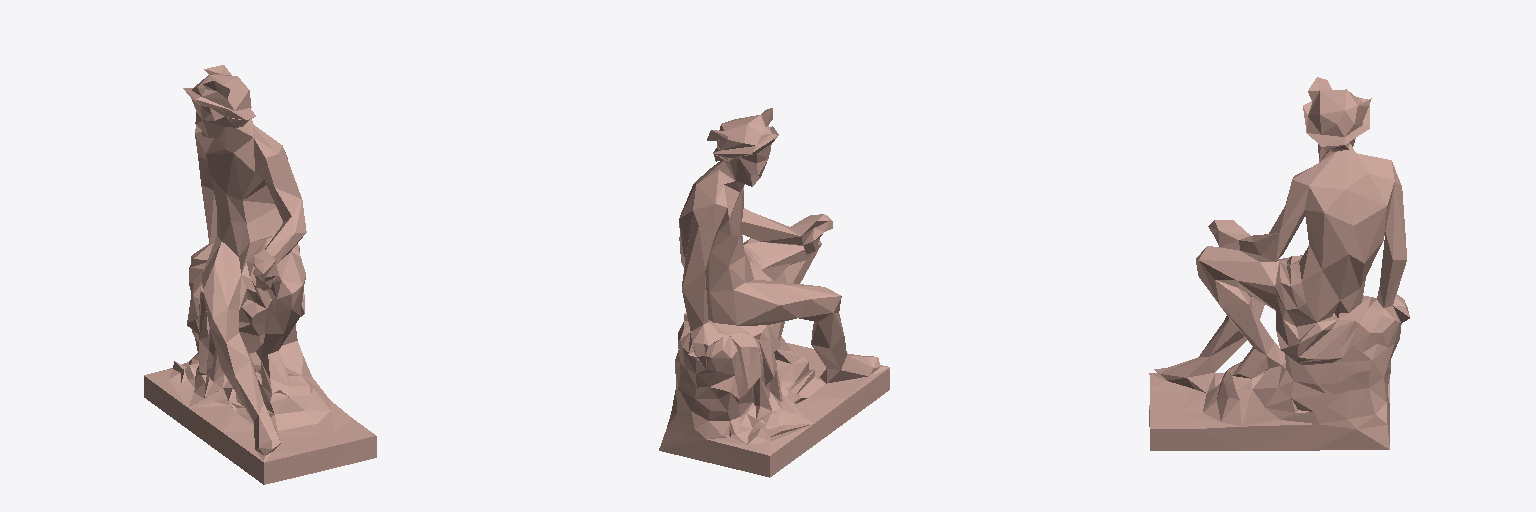
File: statue-low-poly.obj
The picture shows the model from 3 angles: view 1: azimuth 30°, elevation 25°; view 2: azimuth 150°, elevation 25°; view 3: azimuth 270°, elevation 25°; orthographic projection.
Visible parts, largest first — view 1: mercury2; view 2: mercury2; view 3: mercury2.
Part boxes in pixels (bbox=[...]): mercury2: bbox=[144, 65, 376, 484]; mercury2: bbox=[659, 108, 889, 477]; mercury2: bbox=[1149, 77, 1409, 450].
Size of the model in its own units: 3.12 by 8.53 by 6.02.